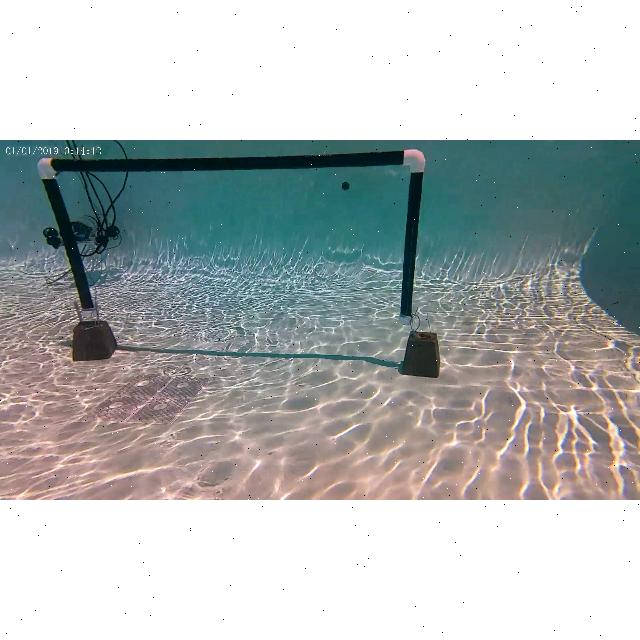prequal gate: (38, 149, 426, 325)
prequal gate leg l: (34, 151, 102, 323)
prequal gate leg r: (391, 146, 429, 330)
